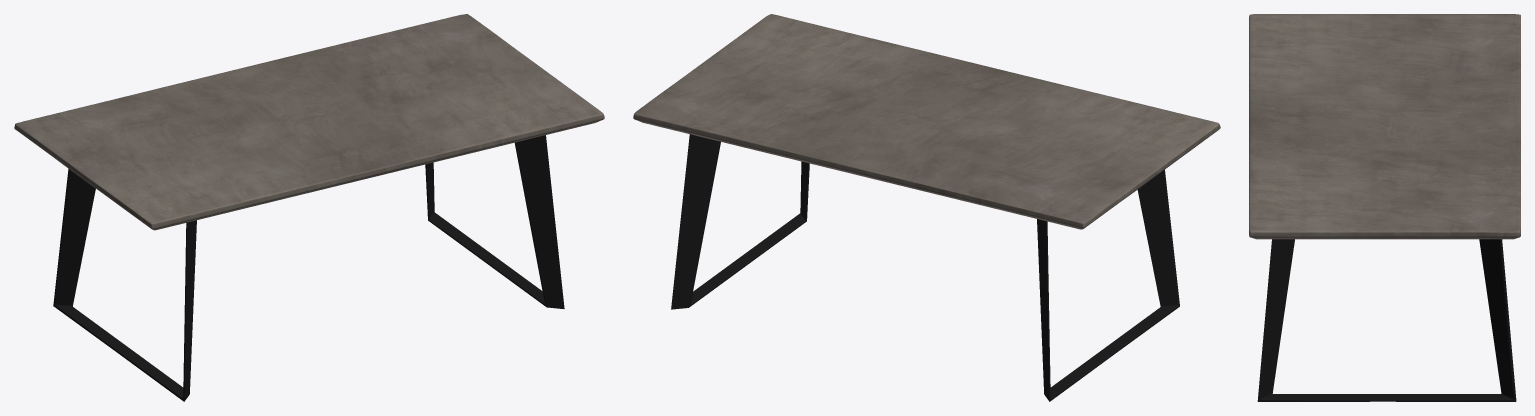
Rendered from table-2-draco.glb.
3 renders of one model, left to right at view 1: azimuth 30°, elevation 25°; view 2: azimuth 150°, elevation 25°; view 3: azimuth 270°, elevation 25°, orthographic.
Parts seen in each view (by area): view 1: Boone_Dining_Table; view 2: Boone_Dining_Table; view 3: Boone_Dining_Table.
Part boxes in pixels (<box>): Boone_Dining_Table: <box>14,14,604,401</box>; Boone_Dining_Table: <box>633,14,1220,401</box>; Boone_Dining_Table: <box>1249,14,1520,401</box>.
Size of the model in its own units: 190 by 76.16 by 100.
Materials: 2 (1 with a texture image).
